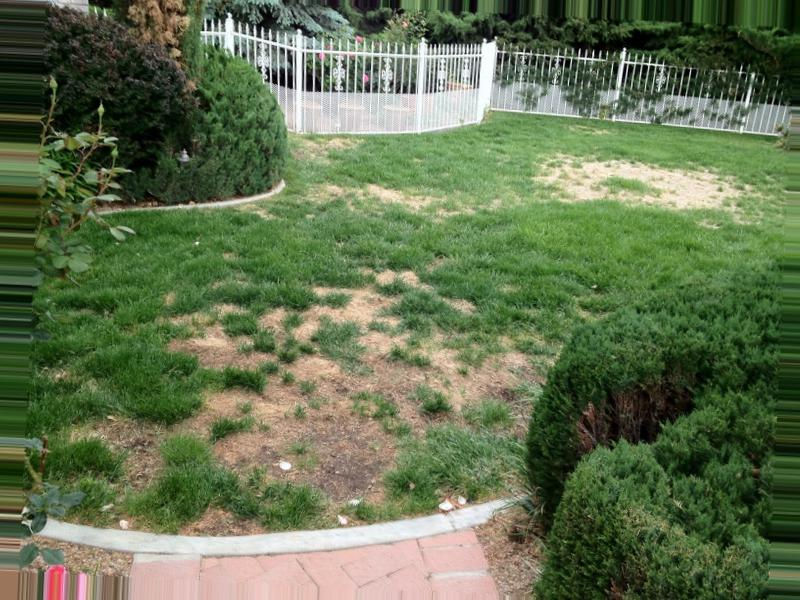patch: (379, 356, 533, 421), (279, 419, 394, 488), (191, 337, 255, 379), (665, 174, 720, 203), (305, 354, 342, 389)
